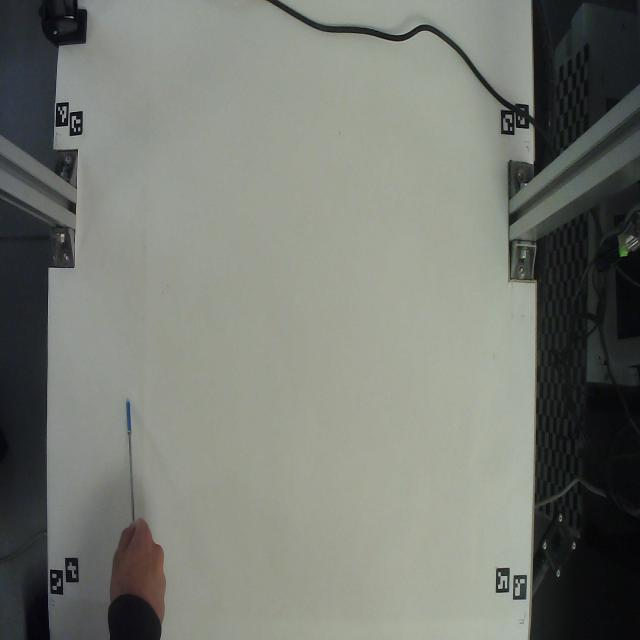Pres: (110, 368, 145, 528)
